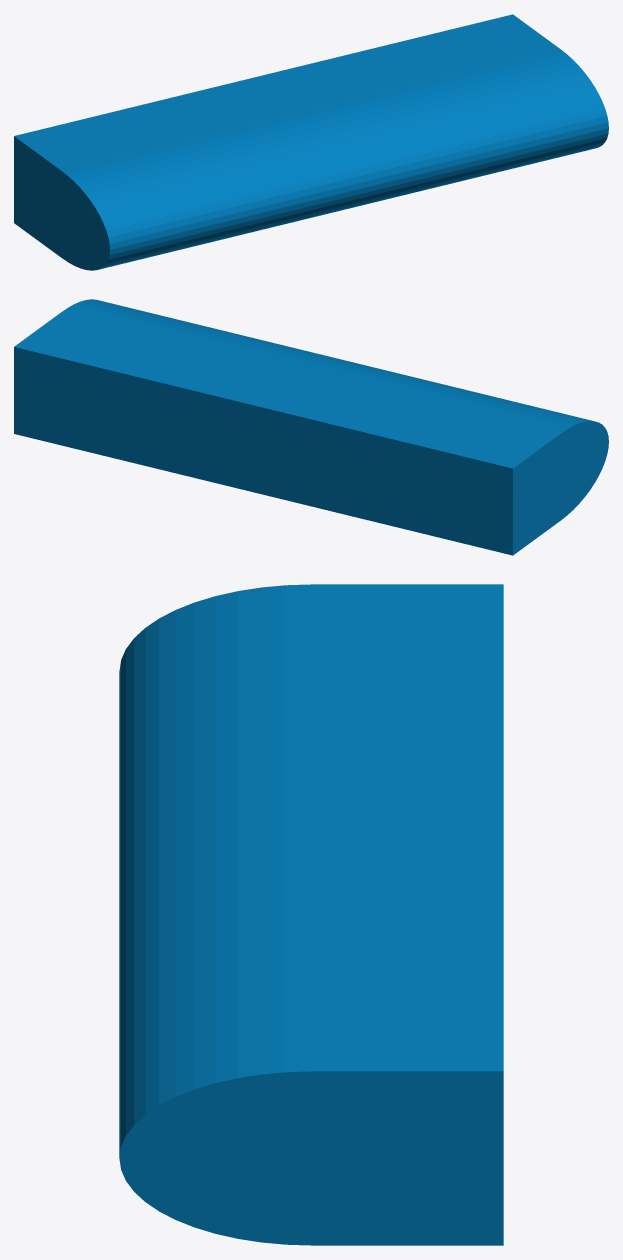
Rendered from muret.obj.
3 views of the same model, one above another, from view 1: azimuth 30°, elevation 25°; view 2: azimuth 150°, elevation 25°; view 3: azimuth 270°, elevation 25° (orthographic). The views are drawn at different scales.
Parts seen in each view (by area): view 1: Mesh_muretArrondit; view 2: Mesh_muretArrondit; view 3: Mesh_muretArrondit.
Part boxes in pixels (x1,y1,x2,y2): Mesh_muretArrondit: (14,14,608,270); Mesh_muretArrondit: (14,299,608,555); Mesh_muretArrondit: (119,584,503,1245).
Bounding box in the file's own units: 6 × 1 × 2.
Materials: 1 (1 with a texture image).
